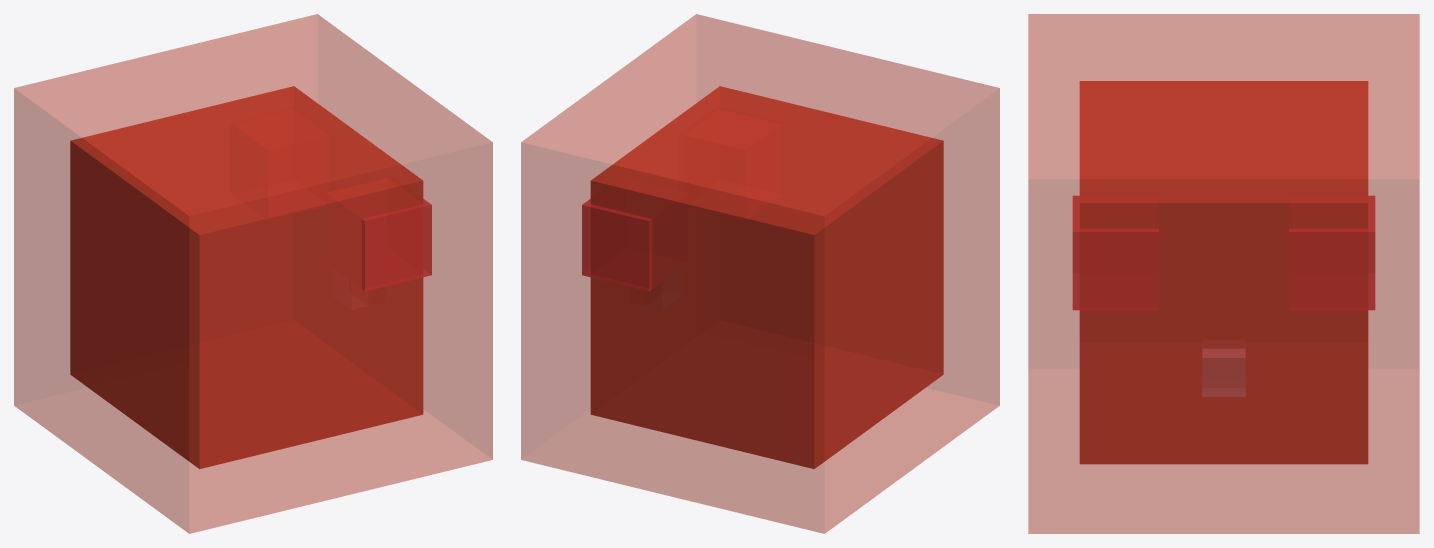
The model's file is fire_slime.fbx.
3 renders of one model, left to right at view 1: azimuth 30°, elevation 25°; view 2: azimuth 150°, elevation 25°; view 3: azimuth 270°, elevation 25°, orthographic. The views are drawn at different scales.
Parts seen in each view (by area): view 1: Body; view 2: Body; view 3: Body.
Part boxes in pixels (left/top/right/bottom): Body: left=14, top=14, right=492, bottom=533; Body: left=521, top=14, right=999, bottom=533; Body: left=1028, top=14, right=1419, bottom=533.
Bounding box in the file's own units: 300 × 300 × 300.
